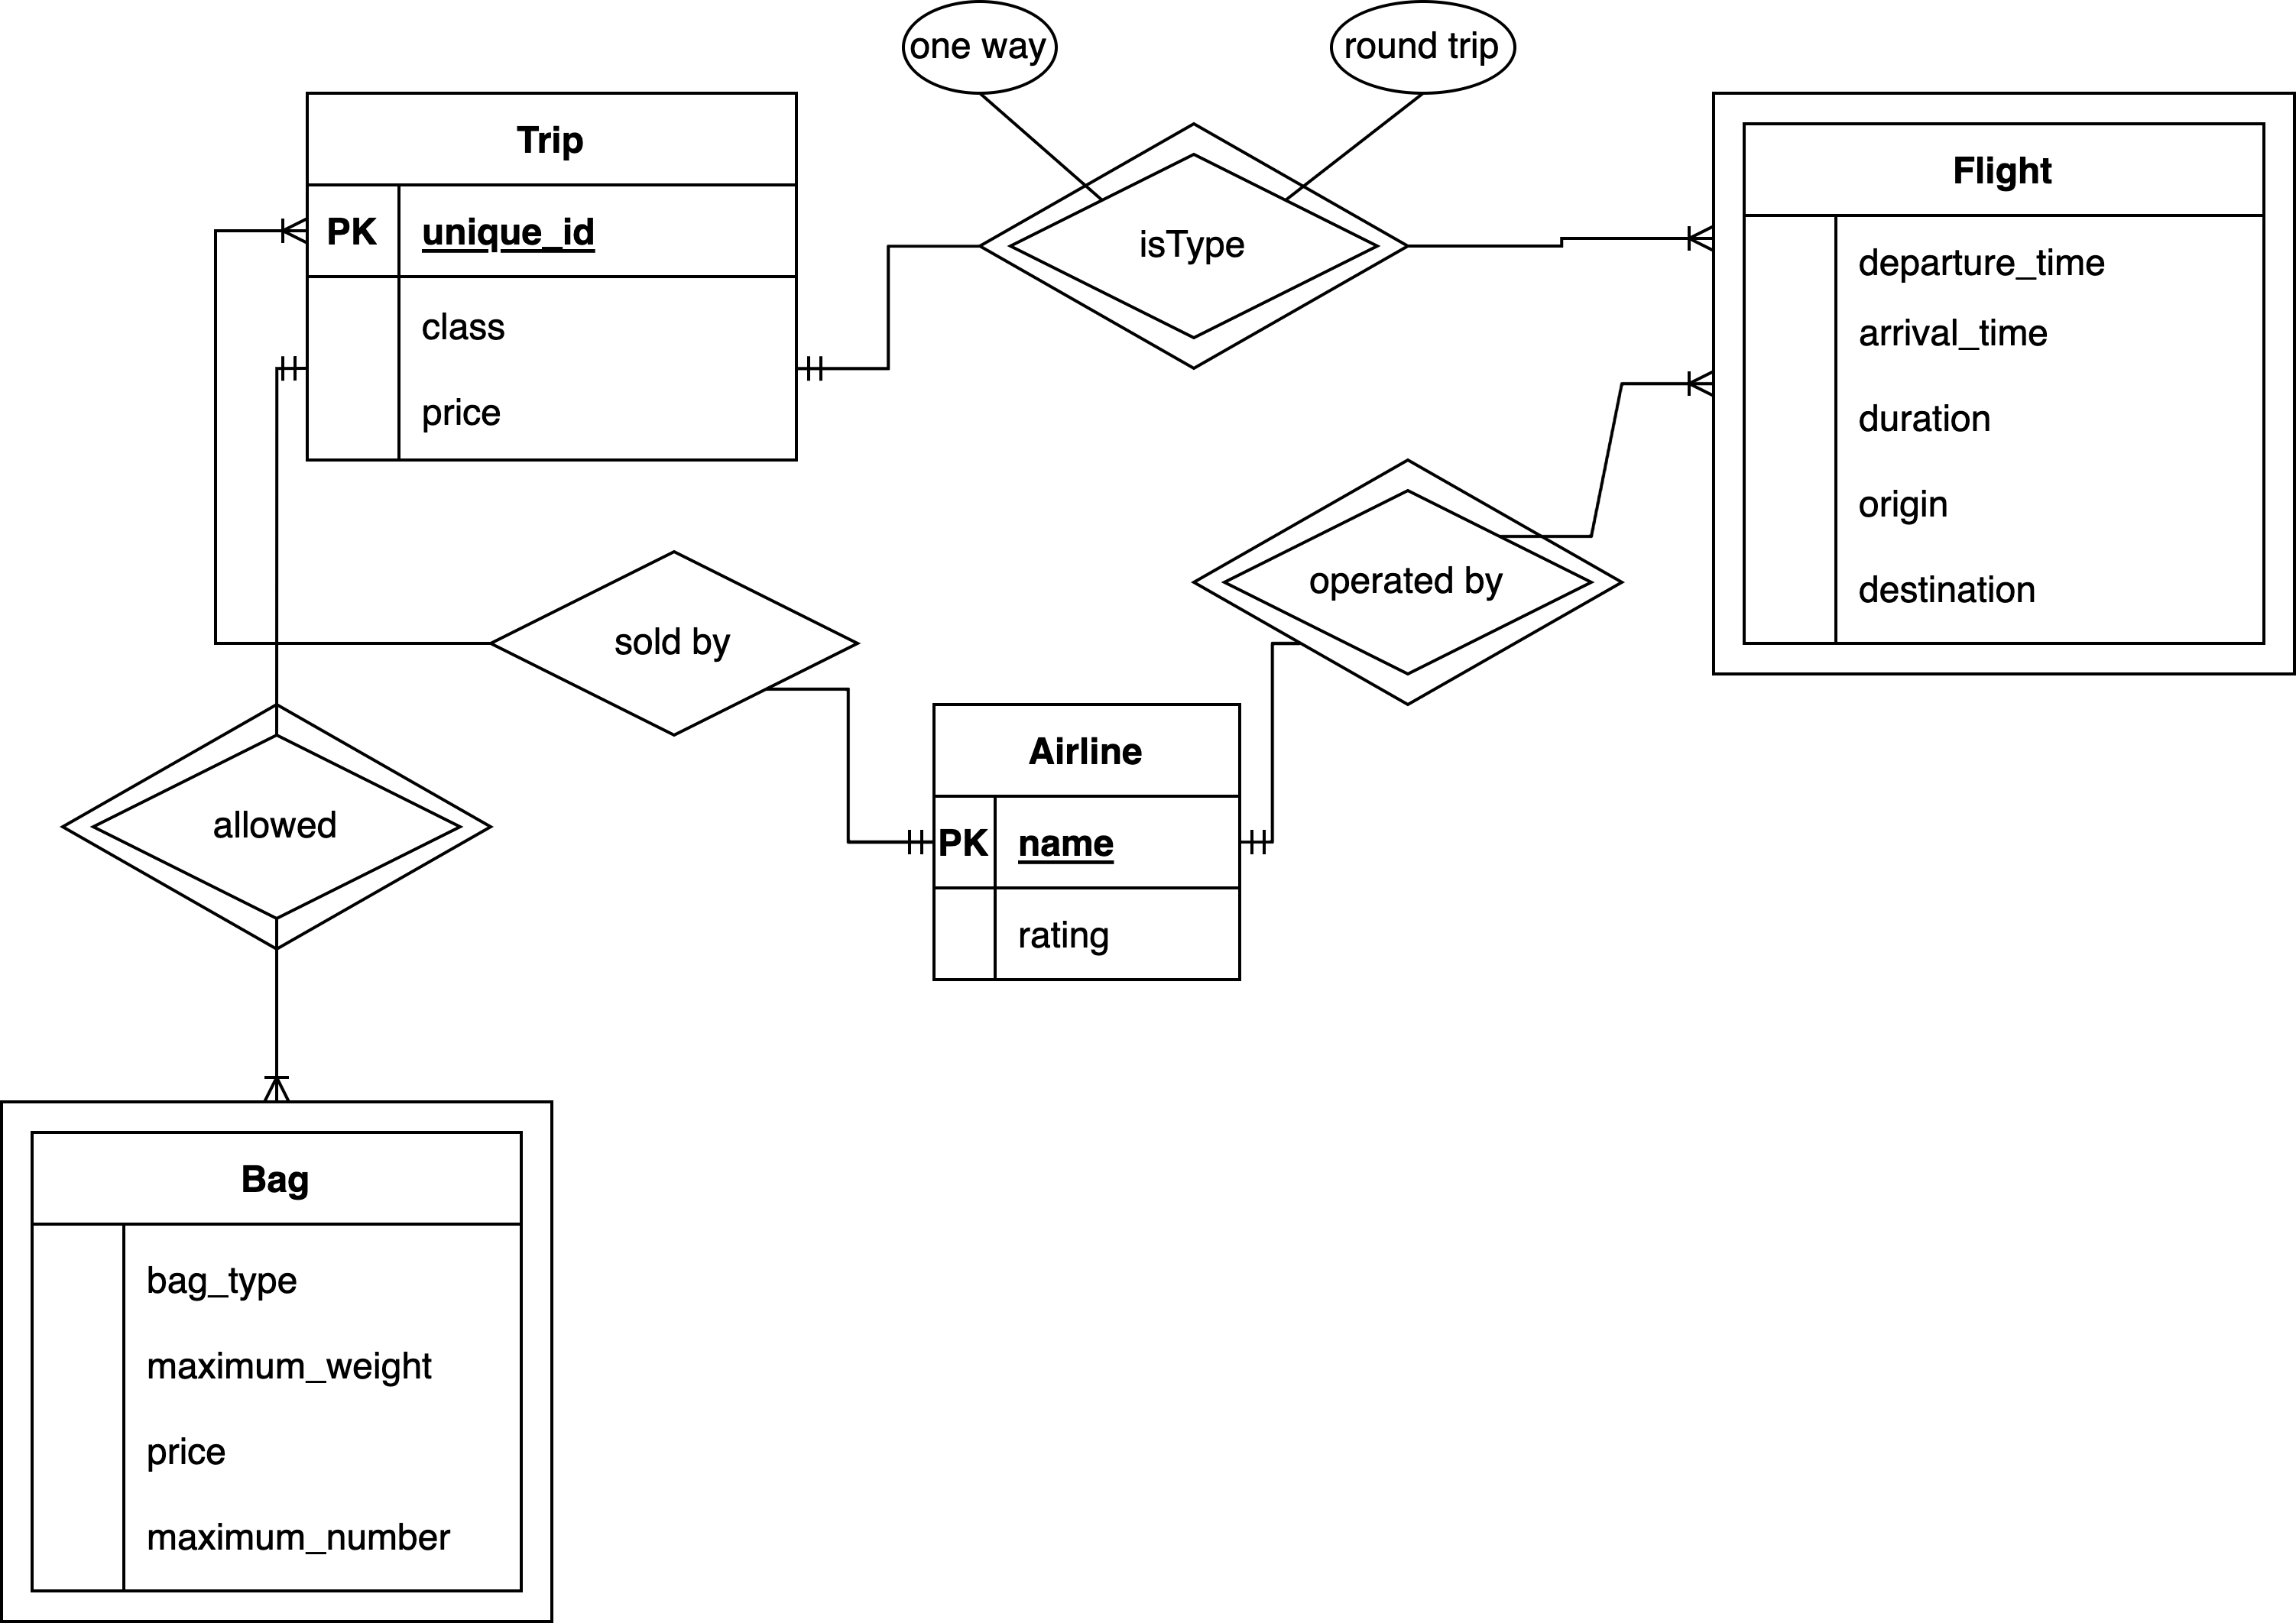entity: (306, 93, 798, 464), (935, 701, 1242, 978)
ident_rel: (61, 706, 495, 957), (978, 121, 1412, 372), (1191, 462, 1625, 704)
many: (248, 1056, 307, 1103), (246, 202, 309, 246), (1667, 355, 1715, 411), (1669, 213, 1715, 260)
one: (1242, 811, 1277, 866), (889, 817, 931, 861), (265, 348, 311, 388), (796, 346, 836, 390)
rel: (490, 550, 859, 731)
rel_attr: (1328, 0, 1518, 97), (898, 0, 1058, 97)
weak_entity: (1715, 88, 2296, 676), (0, 1100, 552, 1621)
